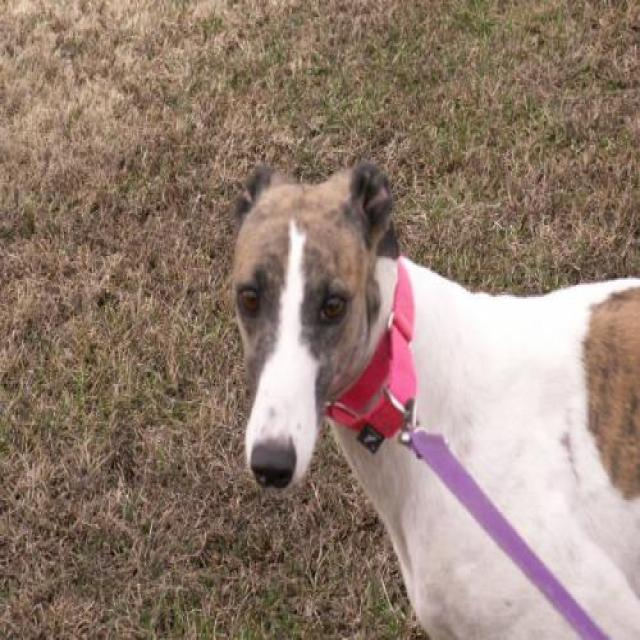Dogs: (228, 159, 639, 638)
